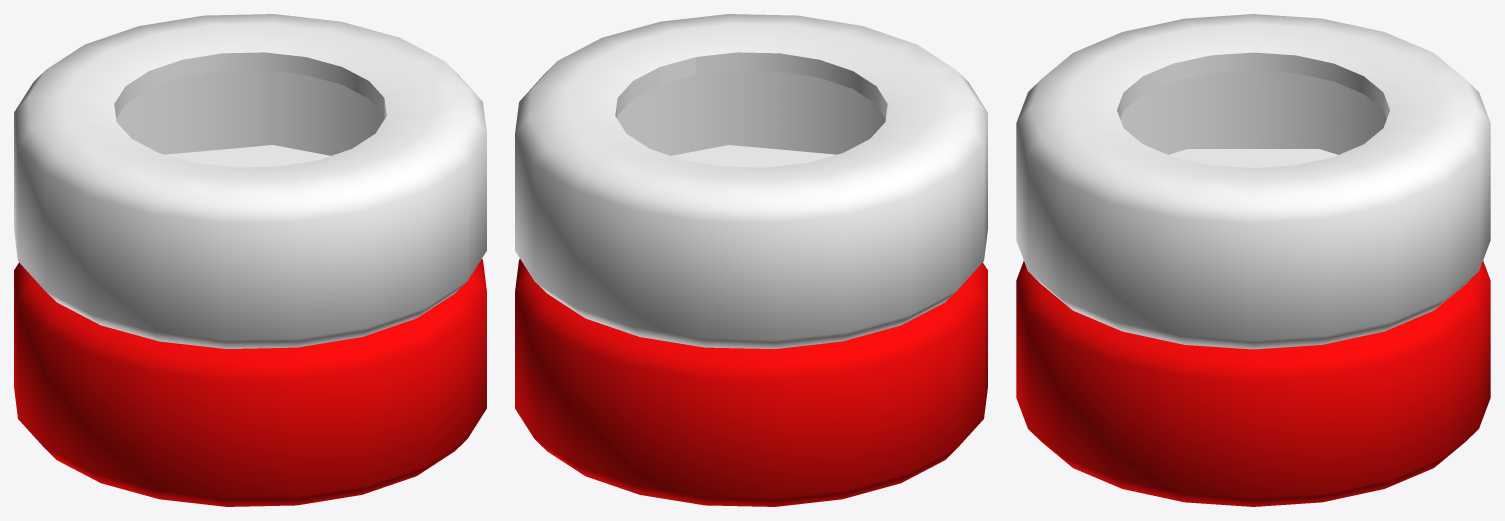
File: Tyre_B.fbx
3 views of the same model, side by side, from view 1: azimuth 30°, elevation 25°; view 2: azimuth 150°, elevation 25°; view 3: azimuth 270°, elevation 25° (orthographic).
Visible parts, largest first — view 1: Tyre_B; view 2: Tyre_B; view 3: Tyre_B.
Boxes of the visible parts, x1,y1,x2,y2 form: Tyre_B: (14, 14, 486, 506); Tyre_B: (515, 14, 987, 506); Tyre_B: (1016, 14, 1490, 506).
Bounding box in the file's own units: 19.9 × 14.57 × 19.9.
